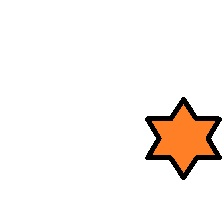star: (144, 97, 222, 180)
